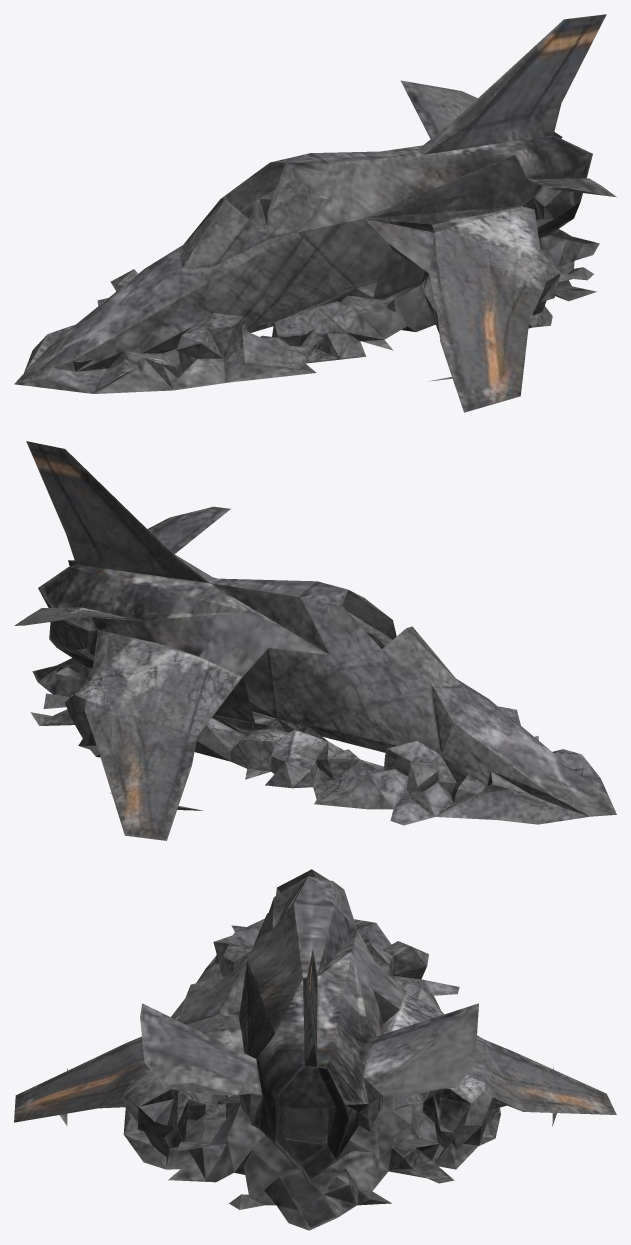
The model's file is wreck_fighter.glb.
3 renders of one model, top to bottom at view 1: azimuth 30°, elevation 25°; view 2: azimuth 150°, elevation 25°; view 3: azimuth 270°, elevation 25°, orthographic. The views are drawn at different scales.
Visible parts, largest first — view 1: Mesh_0; view 2: Mesh_0; view 3: Mesh_0.
Boxes of the visible parts, left/top/right/bottom form: Mesh_0: left=14, top=14, right=616, bottom=412; Mesh_0: left=14, top=441, right=616, bottom=840; Mesh_0: left=14, top=869, right=616, bottom=1230.
Bounding box in the file's own units: 1.9 × 0.7411 × 1.47.
1 material, 1 textured.
